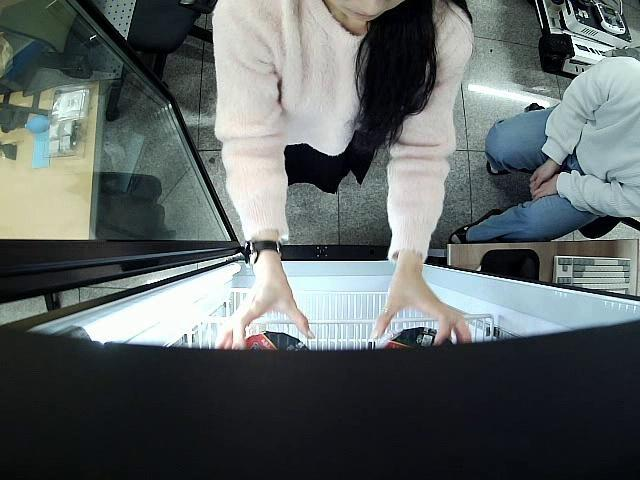01_ShinRamen_L: (374, 325, 454, 349), (232, 330, 308, 352)
